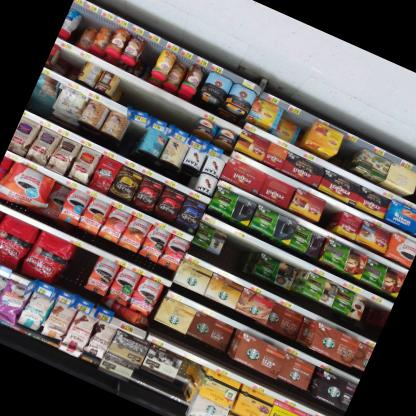empty_space: (112, 73, 203, 135), (112, 107, 155, 162), (215, 230, 258, 278), (331, 132, 365, 172), (316, 198, 346, 233), (409, 171, 416, 209)
